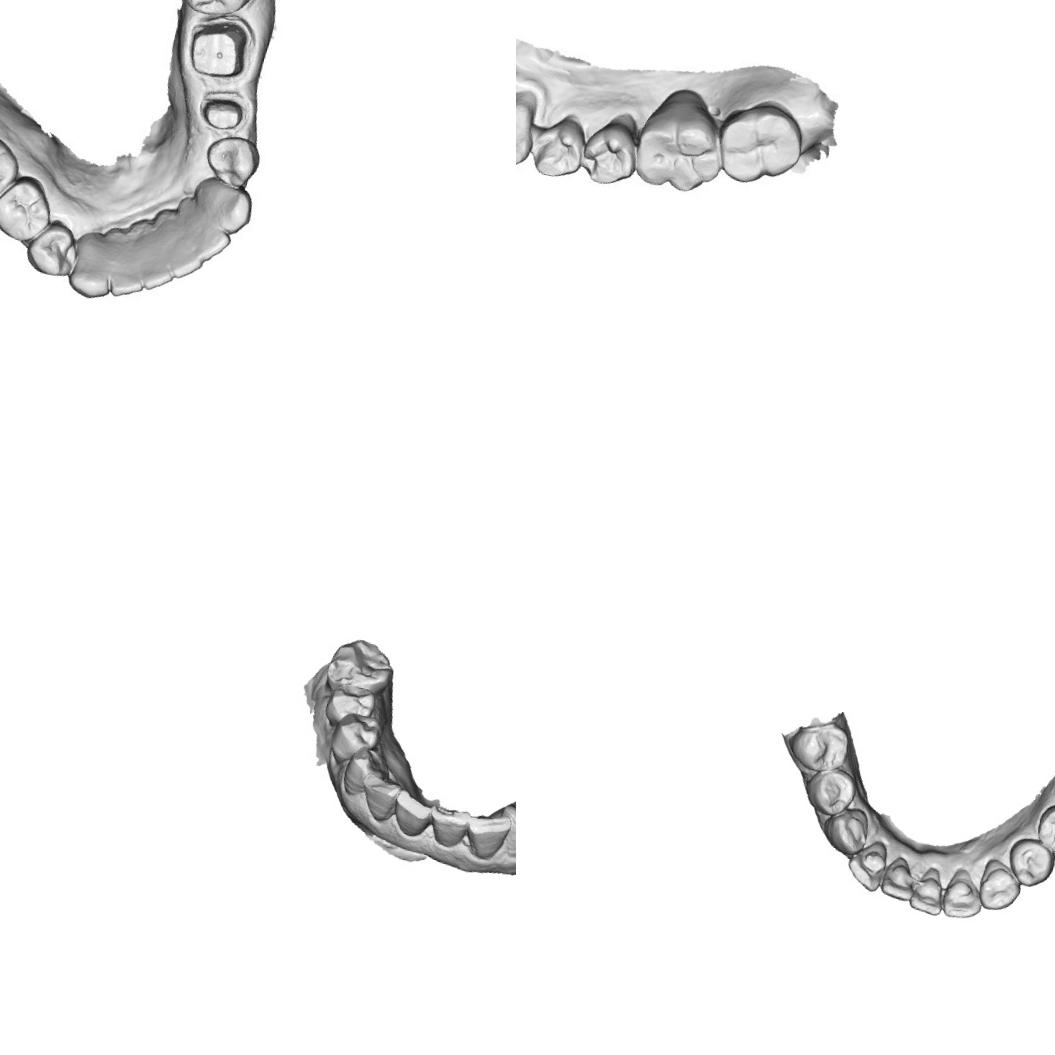canine: (194, 176, 256, 241), (64, 240, 121, 304), (338, 740, 394, 802), (973, 854, 1027, 915), (819, 801, 872, 857), (516, 92, 539, 173), (492, 800, 516, 862)
crown: (182, 15, 253, 85), (192, 87, 253, 142)
incisor: (461, 806, 513, 864), (939, 862, 986, 924), (102, 247, 154, 303), (842, 834, 890, 894), (354, 770, 404, 826), (906, 856, 946, 924), (422, 801, 474, 852), (387, 786, 436, 840), (182, 216, 234, 265), (878, 848, 921, 907), (164, 230, 208, 284), (134, 243, 178, 296)
molar: (628, 90, 731, 200), (708, 94, 810, 193), (322, 632, 399, 704), (0, 126, 27, 208), (174, 0, 261, 22)
premolar: (574, 114, 643, 192), (523, 110, 589, 182), (782, 714, 854, 777), (0, 171, 58, 247), (200, 128, 264, 194), (24, 216, 84, 281), (800, 762, 861, 820), (326, 708, 385, 761), (1001, 834, 1055, 891), (324, 679, 378, 727), (1031, 798, 1055, 859)
